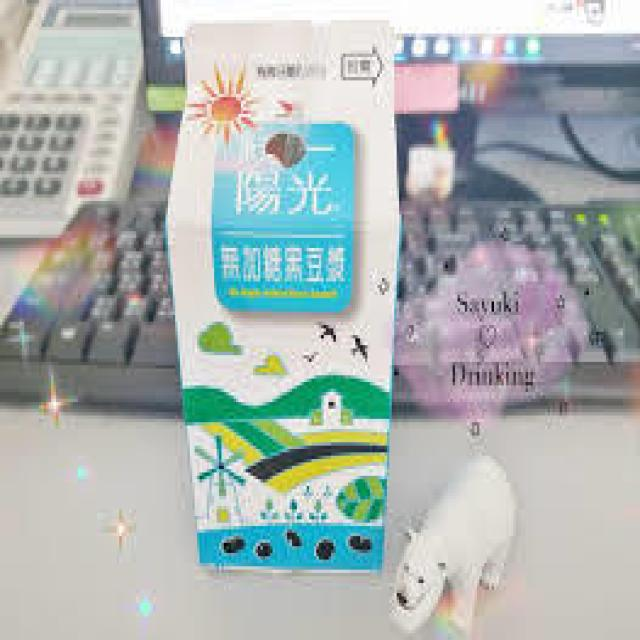TongYi_UnsweetenedBlackSoyMilk: (168, 13, 392, 581)
